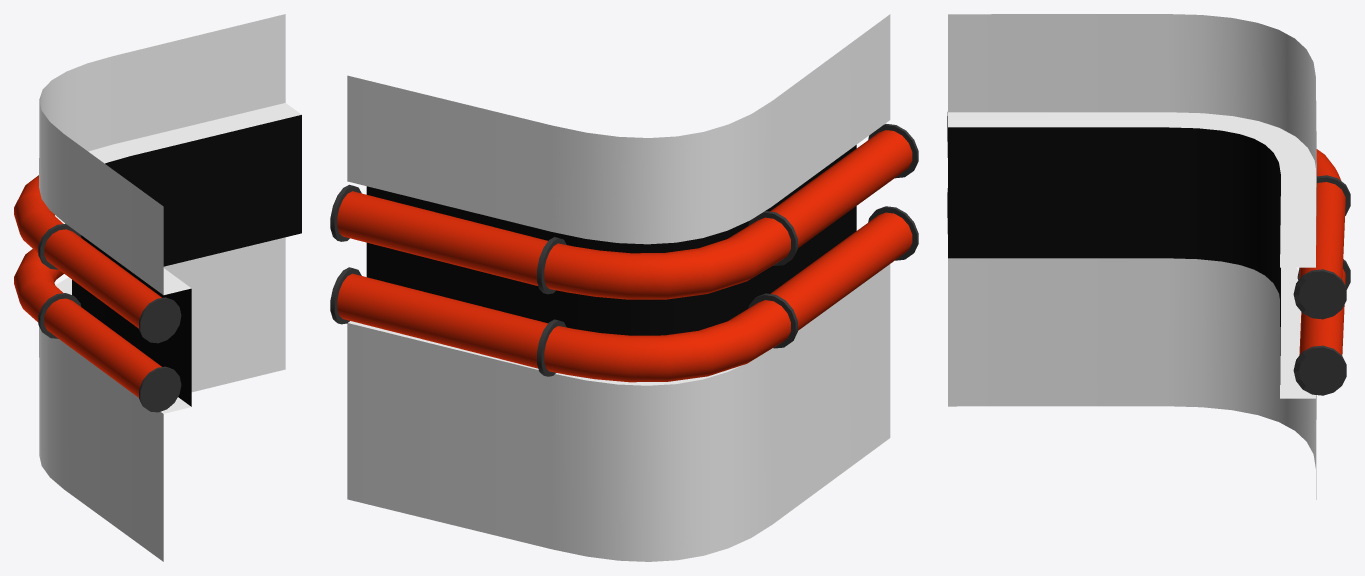
The model's file is S_assete_basement_wall_soft_outside_corner_midel_3.fbx.
3 renders of one model, left to right at view 1: azimuth 30°, elevation 25°; view 2: azimuth 150°, elevation 25°; view 3: azimuth 270°, elevation 25°, orthographic. The views are drawn at different scales.
Visible parts, largest first — view 1: basement_wall_soft_outside_corner_midel_3; view 2: basement_wall_soft_outside_corner_midel_3; view 3: basement_wall_soft_outside_corner_midel_3.
Boxes of the visible parts, x1=… form: basement_wall_soft_outside_corner_midel_3: x1=14, y1=14, x2=301, y2=561; basement_wall_soft_outside_corner_midel_3: x1=330, y1=14, x2=918, y2=561; basement_wall_soft_outside_corner_midel_3: x1=947, y1=14, x2=1350, y2=499.
Bounding box in the file's own units: 184 × 200 × 186.
